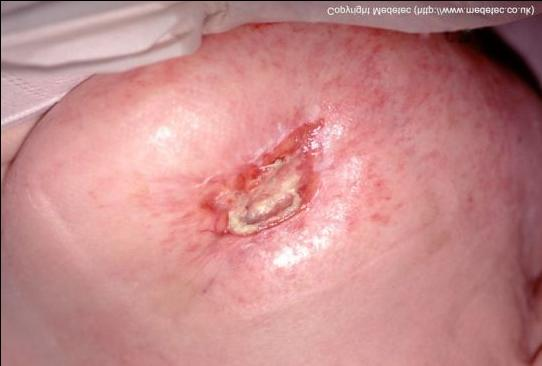NonPU: (157, 84, 371, 272)
